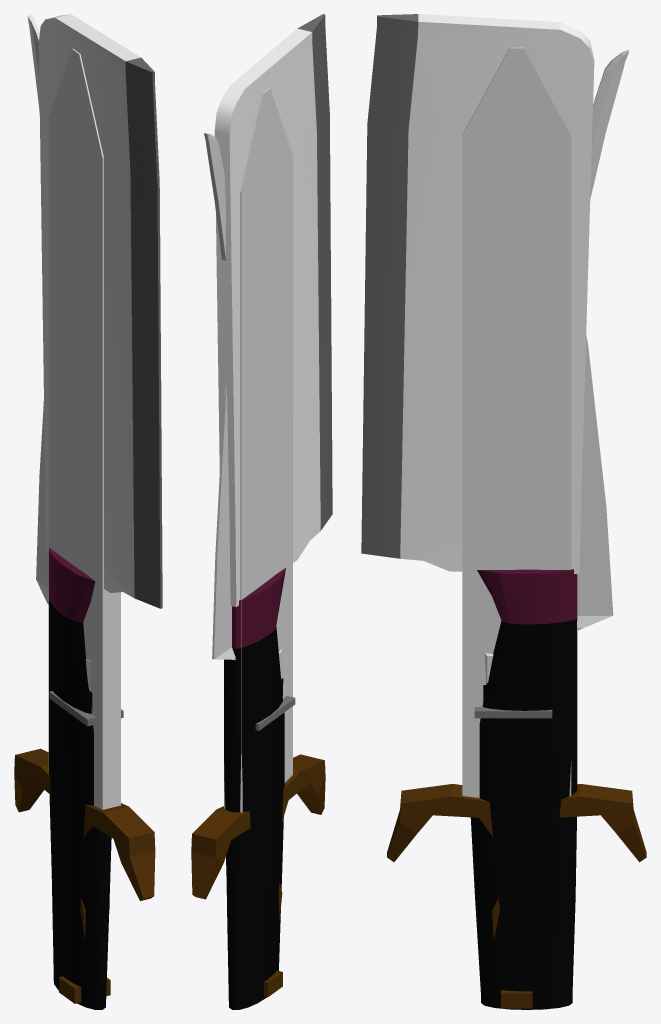
Rendered from Weapons.fbx.
3 views of the same model, side by side, from view 1: azimuth 30°, elevation 25°; view 2: azimuth 150°, elevation 25°; view 3: azimuth 270°, elevation 25° (orthographic). The views are drawn at different scales.
Parts seen in each view (by area): view 1: Cylinder, Cube.001, Cube.003, Cube; view 2: Cylinder, Cube.001, Cube.003, Cube; view 3: Cylinder, Cube.001, Cube.003, Cube.
Boxes of the visible parts, x1=… form: Cylinder: x1=38, y1=14, x2=162, y2=1009; Cube.001: x1=14, y1=48, x2=155, y2=1003; Cube.003: x1=36, y1=401, x2=92, y2=711; Cube: x1=27, y1=15, x2=123, y2=726; Cylinder: x1=214, y1=14, x2=332, y2=1009; Cube.001: x1=191, y1=88, x2=325, y2=997; Cube.003: x1=212, y1=386, x2=283, y2=695; Cube: x1=204, y1=133, x2=295, y2=730; Cylinder: x1=361, y1=14, x2=594, y2=1009; Cube.001: x1=387, y1=47, x2=646, y2=1008; Cube.003: x1=483, y1=336, x2=613, y2=701; Cube: x1=474, y1=49, x2=629, y2=718.
Size of the model in its own units: 0.0823 by 2.12 by 0.5549.
